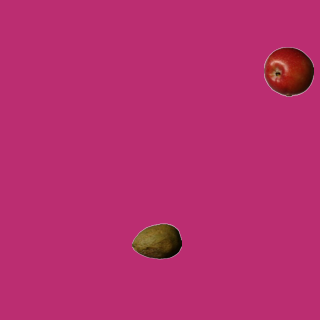Apple Braeburn: (263, 46, 313, 96)
Papaya: (131, 216, 181, 266)
